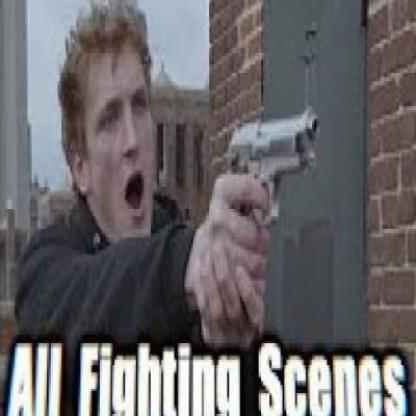Pistol: (224, 100, 324, 231)
